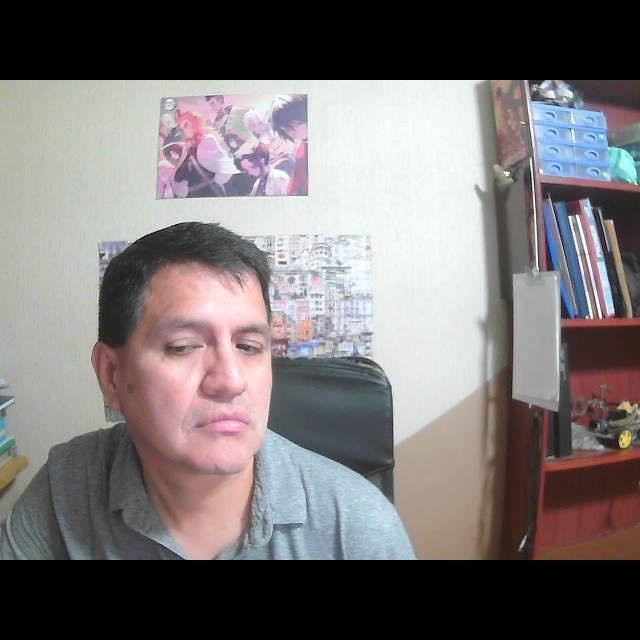cesar: (76, 210, 312, 498)
